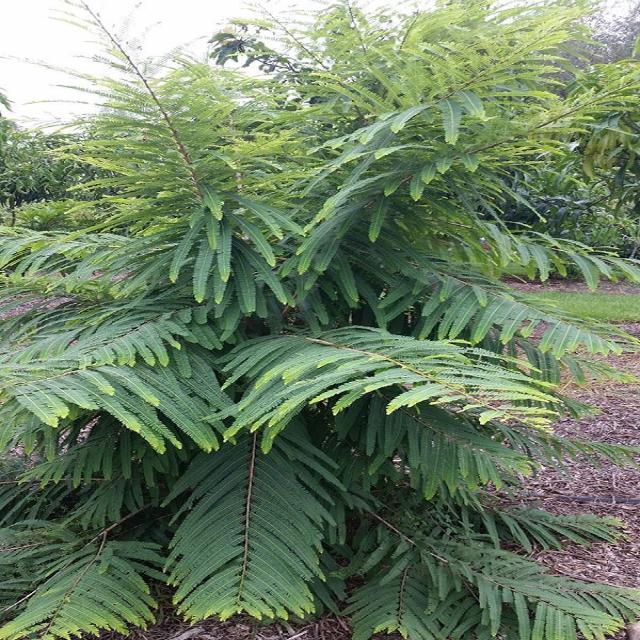Amla: (36, 255, 640, 579), (38, 358, 621, 640), (77, 58, 557, 317)
